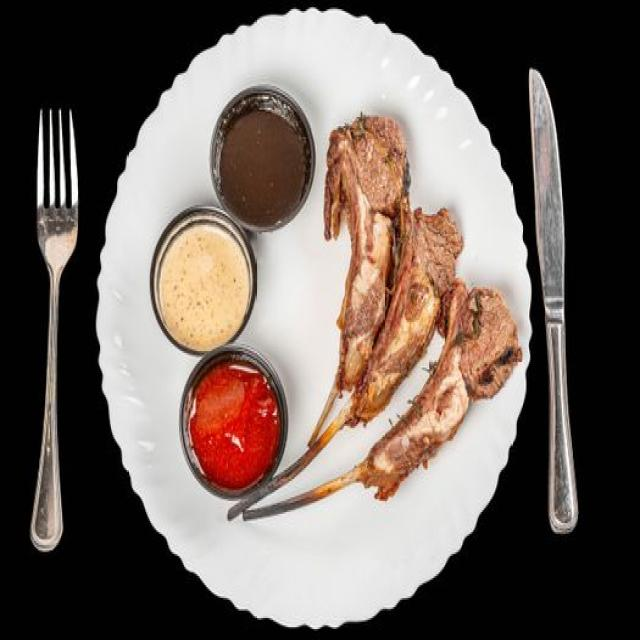knife: (526, 64, 580, 540)
